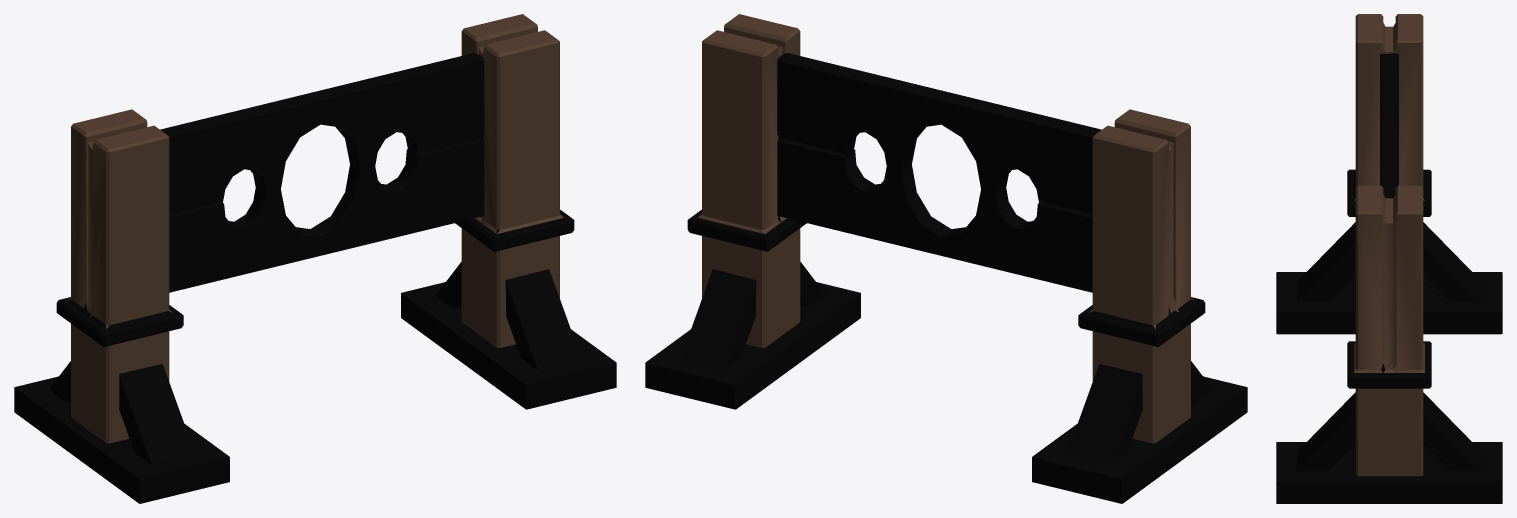
The model's file is Stock.fbx.
3 renders of one model, left to right at view 1: azimuth 30°, elevation 25°; view 2: azimuth 150°, elevation 25°; view 3: azimuth 270°, elevation 25°, orthographic. The views are drawn at different scales.
Parts seen in each view (by area): view 1: Cube.001; view 2: Cube.001; view 3: Cube.001.
Boxes of the visible parts, x1=… form: Cube.001: x1=14, y1=14, x2=616, y2=503; Cube.001: x1=645, y1=14, x2=1247, y2=503; Cube.001: x1=1276, y1=14, x2=1502, y2=503.
Size of the model in its own units: 1.84 by 1.18 by 0.8413.
